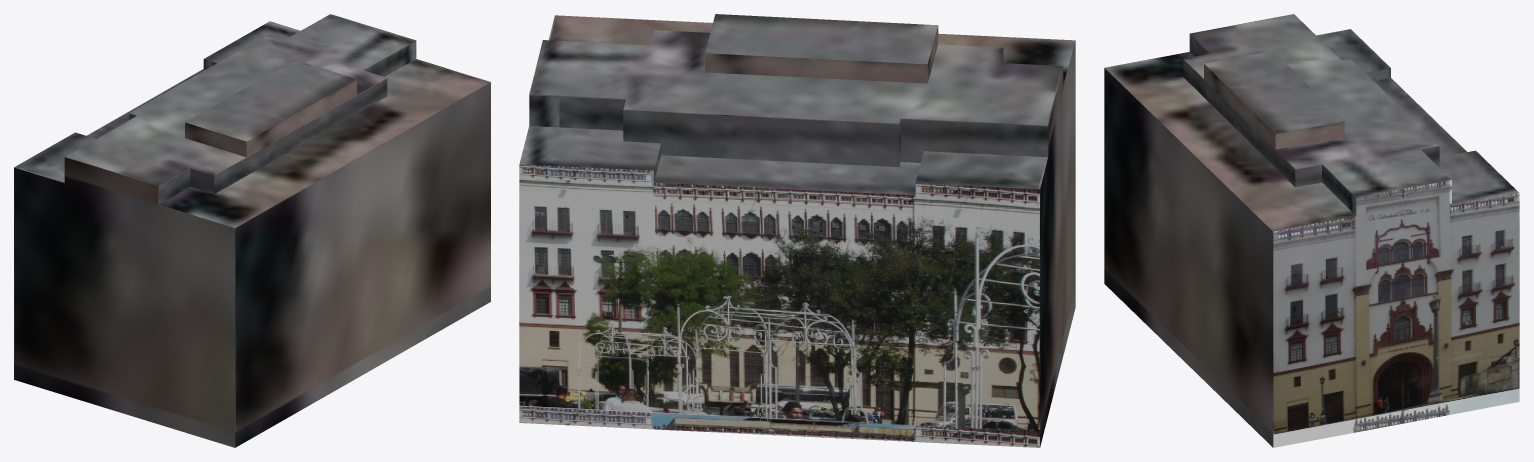
The model's file is Coltabaco.fbx.
The picture shows the model from 3 angles, left to right: view 1: azimuth 30°, elevation 25°; view 2: azimuth 150°, elevation 25°; view 3: azimuth 270°, elevation 25°; orthographic projection. The views are drawn at different scales.
Visible parts, largest first — view 1: Model; view 2: Model; view 3: Model.
Boxes of the visible parts, x1,y1,x2,y2 form: Model: (14, 14, 490, 447); Model: (519, 14, 1075, 447); Model: (1104, 14, 1519, 447).
Size of what is drawn, in the model's own units: 37.8 by 20.97 by 31.55.
